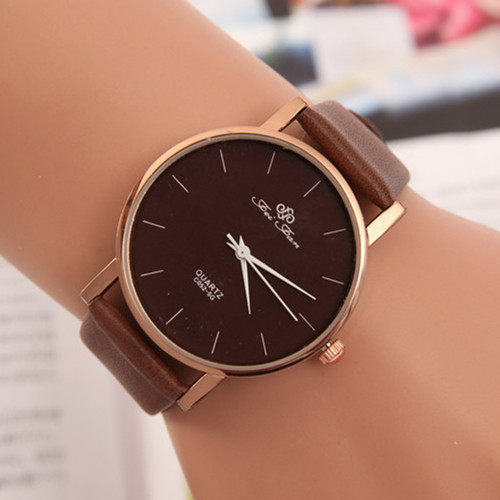clock: (127, 133, 361, 369)
